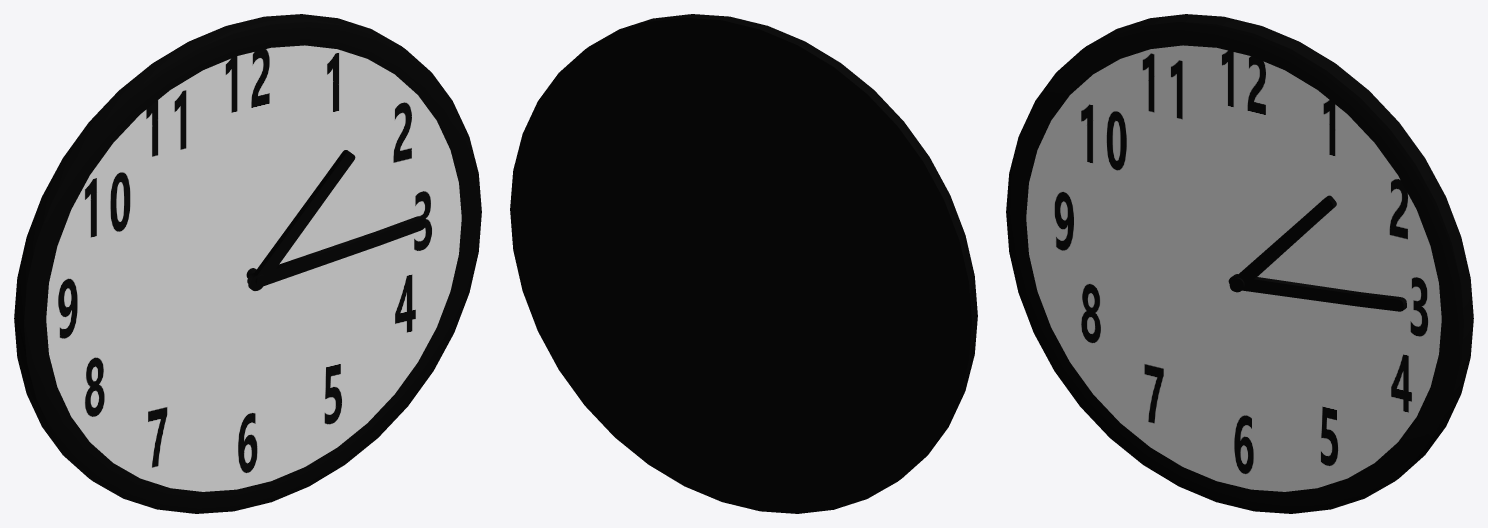
File: Clock.fbx
The picture shows the model from 3 angles, left to right: view 1: azimuth 30°, elevation 25°; view 2: azimuth 150°, elevation 25°; view 3: azimuth 330°, elevation 25°; orthographic projection.
Parts seen in each view (by area): view 1: Clock; view 2: Clock; view 3: Clock.
Boxes of the visible parts, x1=… form: Clock: x1=14, y1=14, x2=481, y2=513; Clock: x1=510, y1=14, x2=977, y2=513; Clock: x1=1006, y1=14, x2=1473, y2=513.
Bounding box in the file's own units: 30 × 29.9 × 1.2.
1 material, 1 textured.
